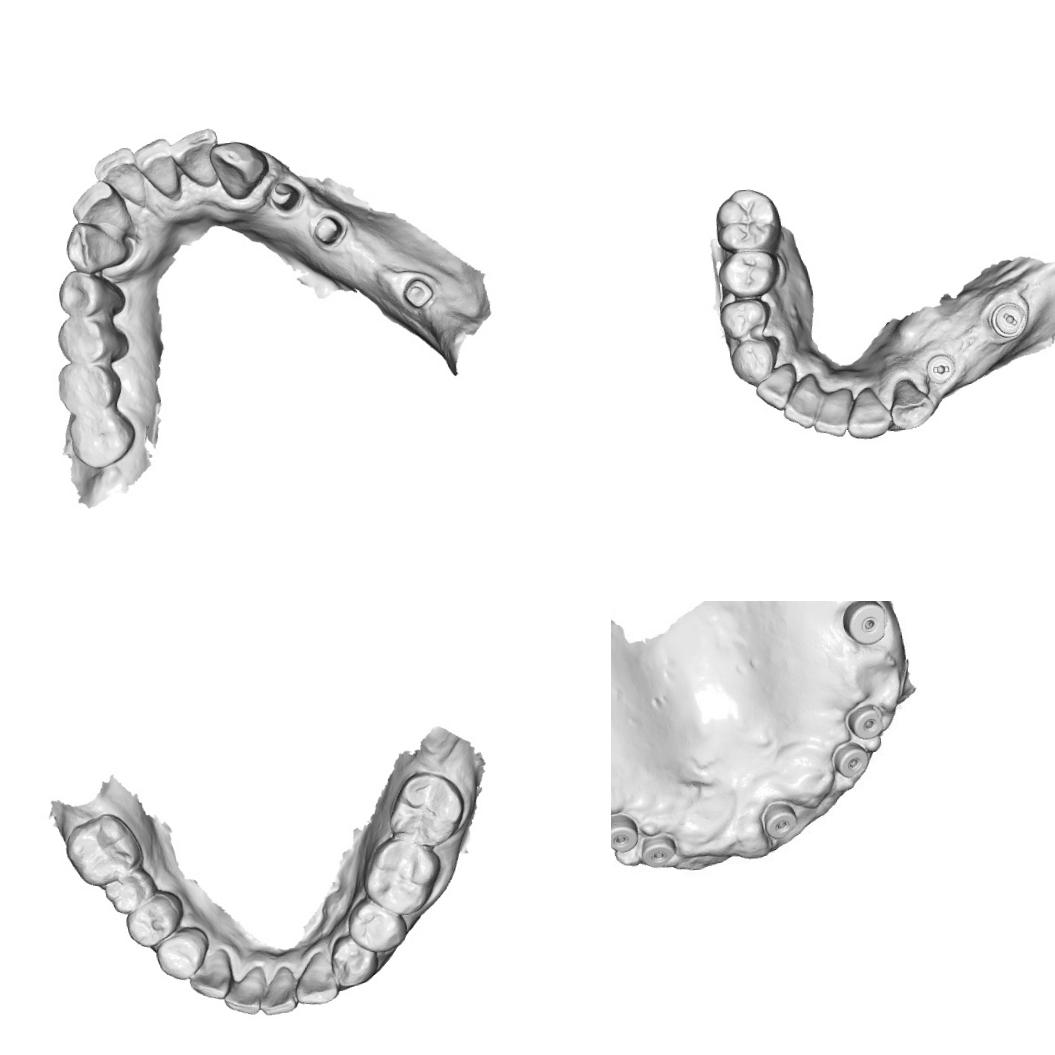abutment: (308, 208, 348, 250), (398, 271, 437, 312), (264, 177, 302, 218)
canine: (206, 136, 274, 202), (62, 216, 132, 276), (290, 948, 340, 1006), (728, 334, 782, 387), (186, 947, 235, 1002), (888, 376, 936, 431)
implant: (845, 601, 890, 643), (760, 798, 800, 840), (831, 738, 870, 780), (844, 701, 886, 740), (638, 831, 677, 870), (611, 811, 640, 854)
implant_minus: (987, 299, 1028, 340), (924, 351, 956, 385)
incisor: (65, 175, 133, 237), (166, 125, 222, 192), (88, 144, 148, 206), (129, 136, 183, 201), (842, 384, 892, 440), (779, 371, 824, 430), (220, 963, 266, 1018), (810, 386, 856, 438), (752, 361, 798, 412), (256, 964, 298, 1016)
molar: (358, 832, 446, 918), (382, 768, 467, 850), (61, 809, 145, 889), (64, 403, 138, 472), (712, 185, 783, 256), (53, 357, 124, 417), (102, 866, 158, 916)
premolar: (52, 314, 132, 366), (345, 893, 410, 956), (54, 266, 127, 322), (122, 888, 187, 949), (714, 246, 782, 299), (153, 924, 212, 982), (328, 931, 380, 988), (717, 296, 773, 340)
